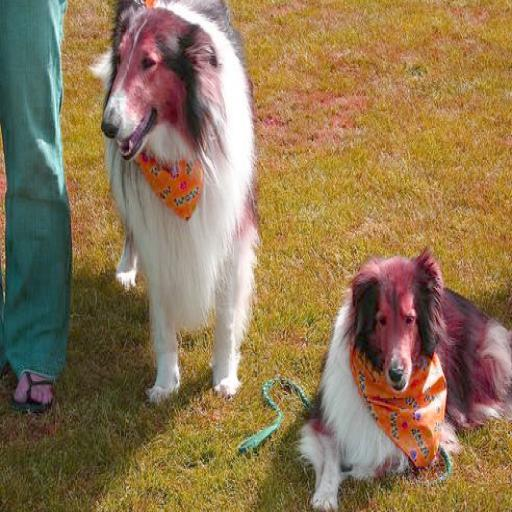dog_face: (106, 10, 217, 163), (353, 243, 446, 394)
